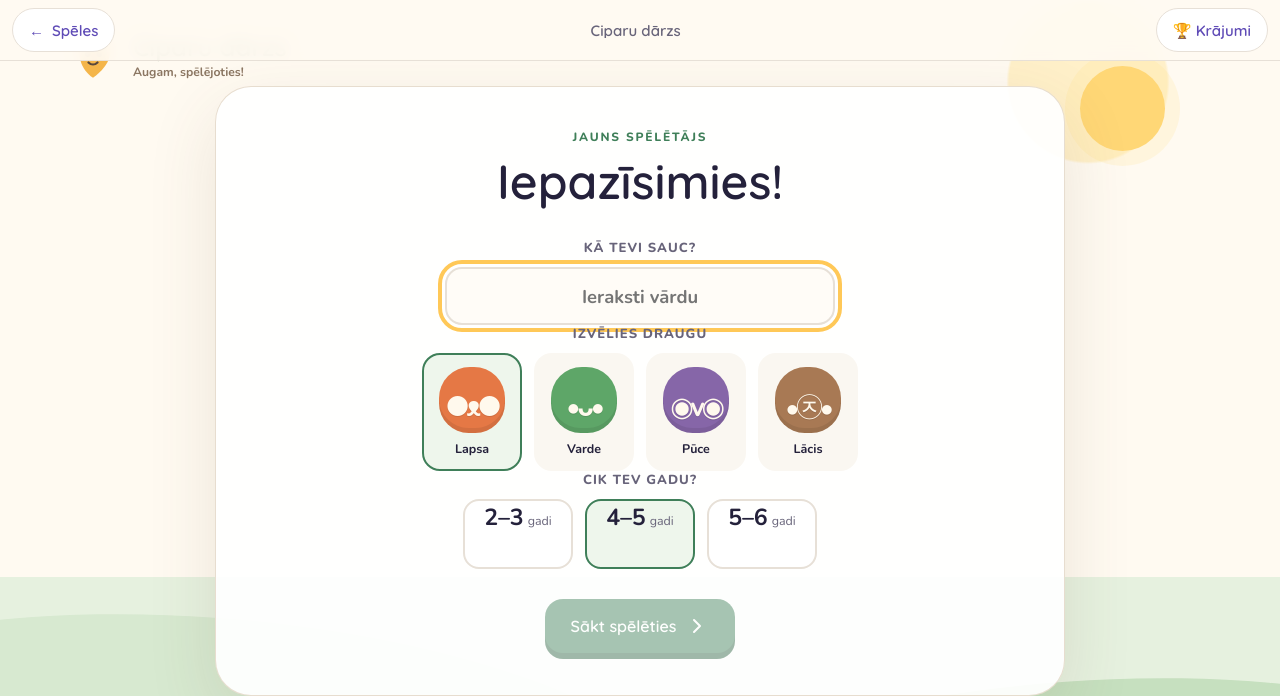
Test case: app flow › keeps a child out of the caregiver view when the sum is wrong
Type "Rūta" into the field labelled "Kā tevi sauc?" at (640, 296), box [445, 267, 835, 325]
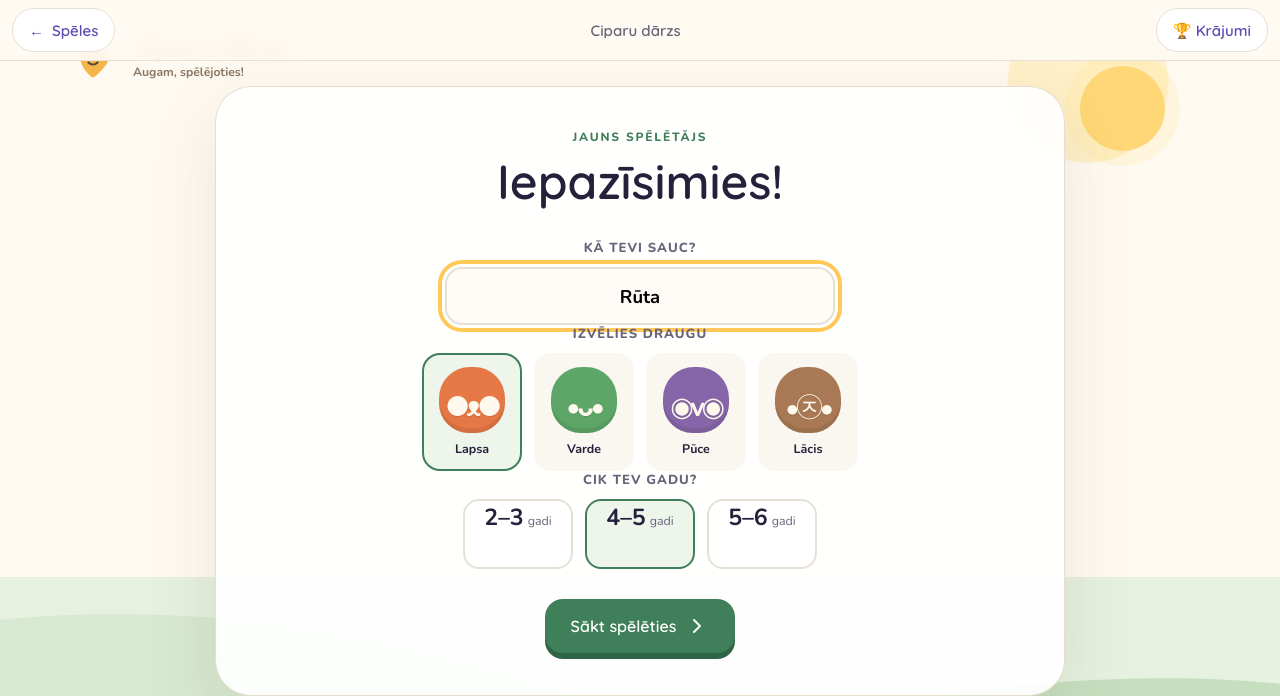
Click the button "Sākt spēlēties" at (640, 626), box [545, 599, 735, 653]
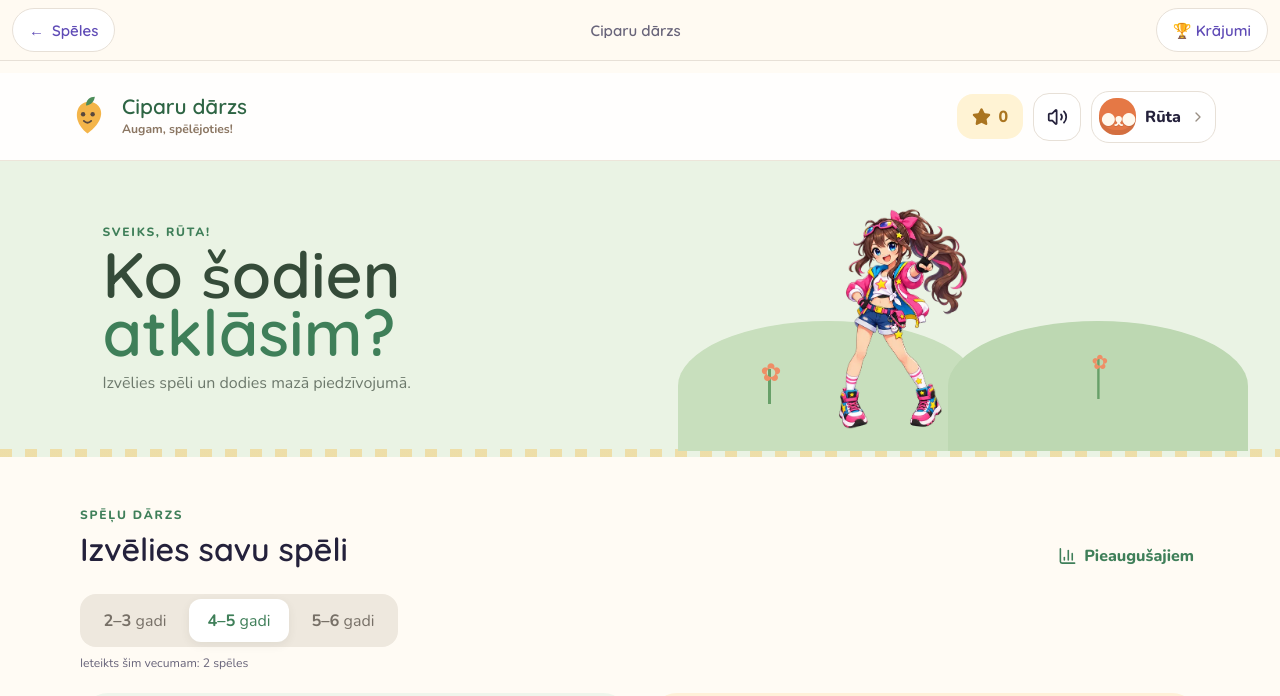
Click the button "Pieaugušajiem" at (1126, 556), box [1052, 543, 1200, 569]
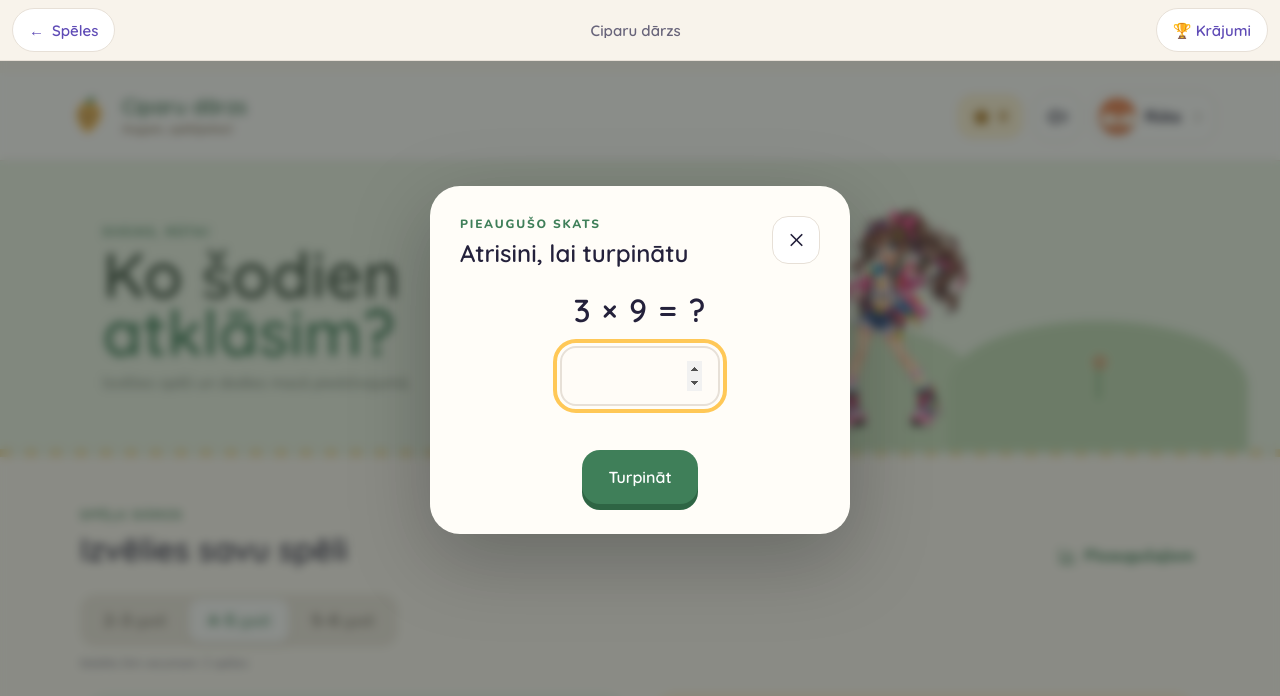
Type "1" into the number field at (640, 376), box [560, 346, 720, 406]
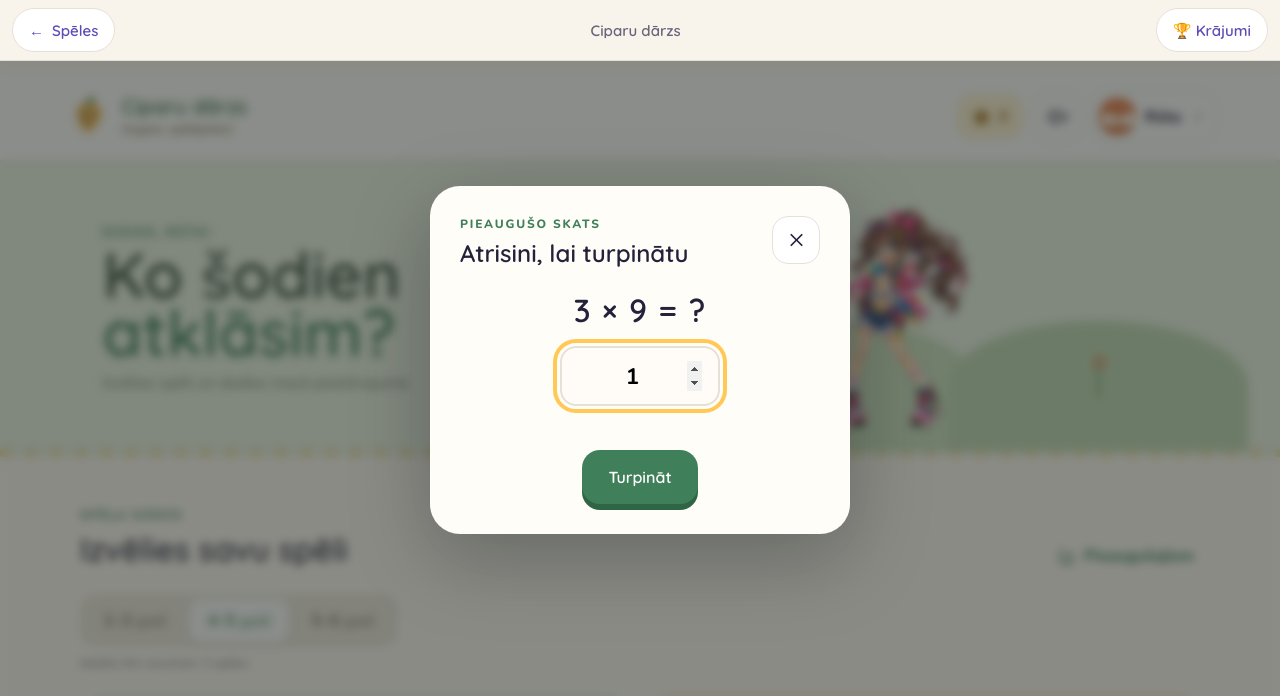
Click the button "Turpināt" at (640, 477), box [582, 450, 698, 504]
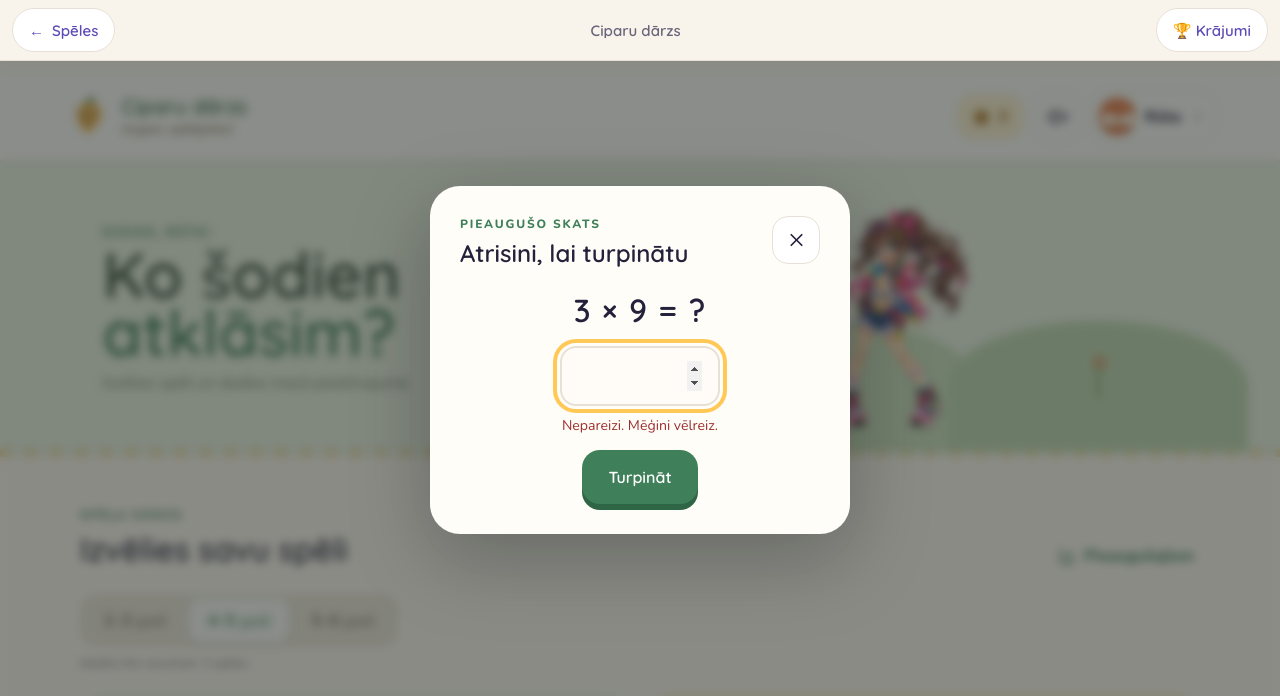
Expected: the dialog shows "Nepareizi", [562, 416, 718, 435]
